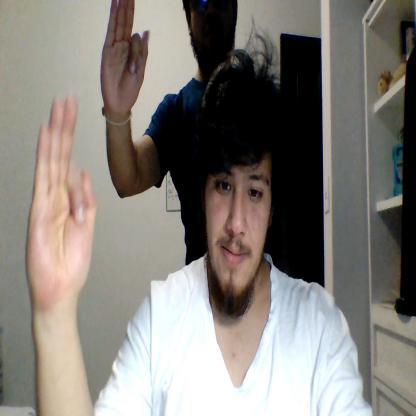F: (26, 92, 96, 296), (101, 0, 149, 116)
